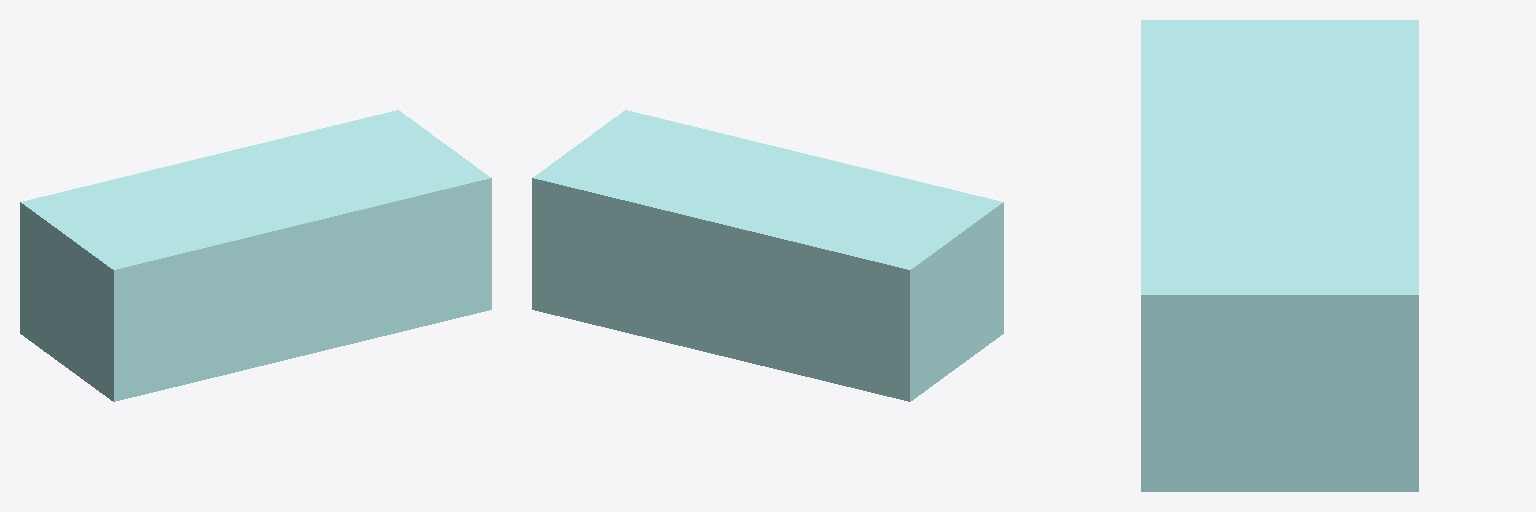
URDF robot description (body):
<?xml version="1.0"?>
<robot name="body">
  <link name="body_base_link">
    <contact>
      <lateral_friction value="1.0"/>
      <spinning_friction value=".001"/>
      <friction_anchor/>
    </contact>
    <inertial>
      <origin rpy="0 0 0" xyz="0 0 0"/>
      <mass value="45"/>
      <inertia ixx="1" ixy="0" ixz="0" iyy="1" iyz="0" izz="1"/>
    </inertial>
    <visual>
      <origin rpy="0 0 0" xyz="0.0 0.0 0.0"/>
      <geometry>
        <box size="0.6 0.256 0.2"/>
      </geometry>
      <material name="blockmat">
        <color rgba="0.8 1 1 1"/>
      </material>
    </visual>
    <collision>
      <origin rpy="0 0 0" xyz="0.0 0.0 0.0"/>
      <geometry>
        <box size="0.6 0.256 0.2"/>
      </geometry>
    </collision>
  </link>
</robot>

--- What the picture shows (computed from the rendered views, not written in the file) ---
Views: 3 orthographic renders of the robot side by side, from view 1: azimuth 30°, elevation 25°; view 2: azimuth 150°, elevation 25°; view 3: azimuth 270°, elevation 25°.
Robot: body — 1 links, 0 joints (none); root link body_base_link; default pose: every joint at zero.
Visible links, largest first — view 1: body_base_link; view 2: body_base_link; view 3: body_base_link.
Boxes of the visible links, x1,y1,x2,y2 form: body_base_link: [20, 110, 491, 401]; body_base_link: [532, 110, 1003, 401]; body_base_link: [1141, 20, 1418, 491].
Size in the robot's own frame: 0.6 by 0.256 by 0.2 metres.
Geometry: primitives only (box / cylinder / sphere), no mesh files.